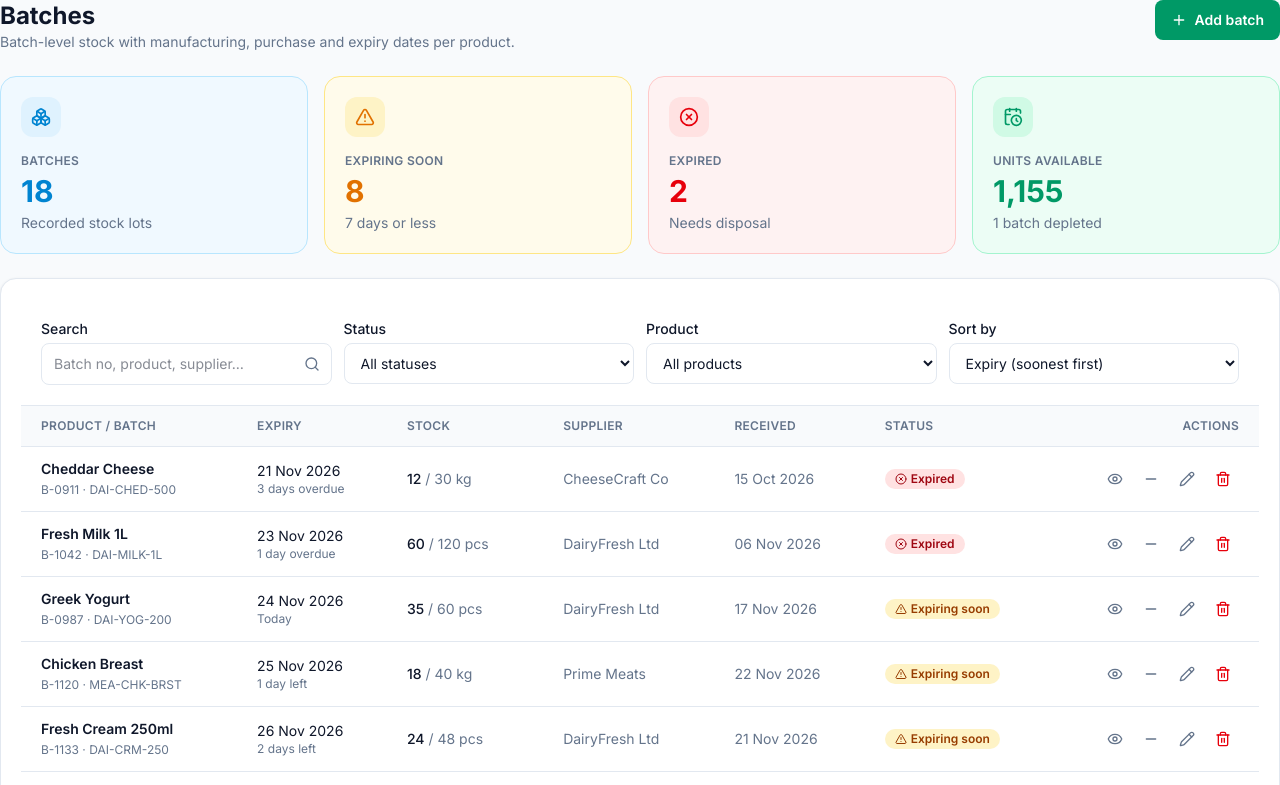
Test: BatchesPage › opens the add-batch form with product and date fields
Click the button "Add batch": {"x": 1217, "y": 20} [1155,0,1279,40]
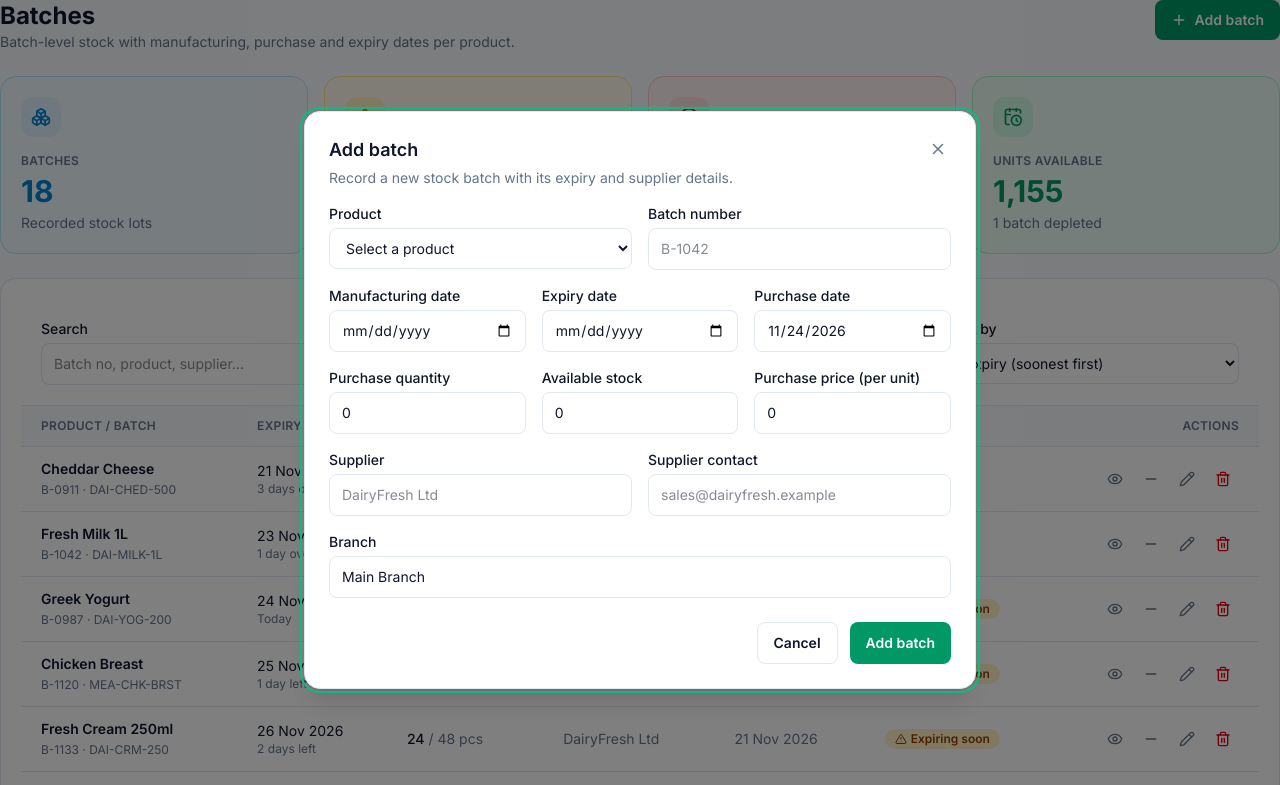
Now the dropdown labelled "Product" is shown, box [329,228,632,269]
Now the field labelled "Batch number" is shown, box [648,228,951,270]
Now the date field labelled "Manufacturing date" is shown, box [329,310,526,352]
